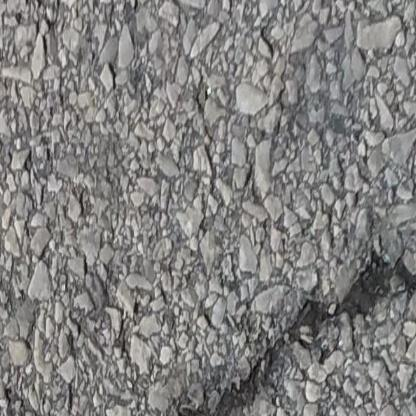Cracks: (174, 249, 416, 416)
